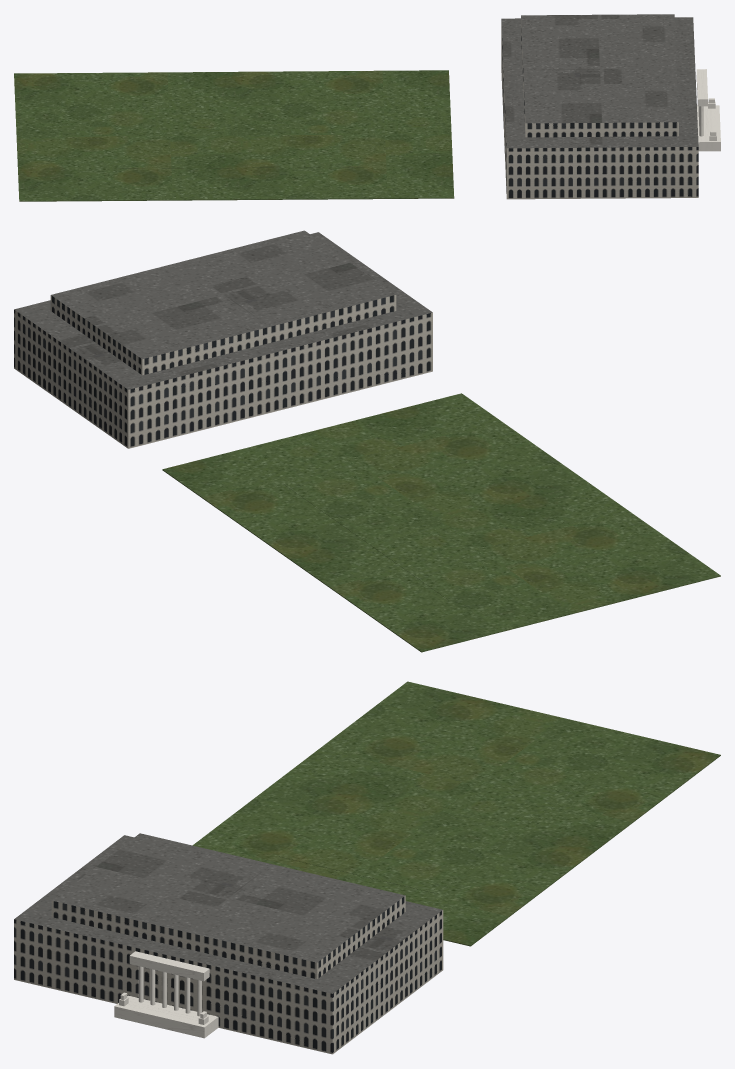
The model's file is nypl.glb.
3 views of the same model, one above another, from view 1: azimuth 30°, elevation 25°; view 2: azimuth 150°, elevation 25°; view 3: azimuth 270°, elevation 25° (orthographic). The views are drawn at different scales.
Parts seen in each view (by area): view 1: nypl; view 2: nypl; view 3: nypl.
Boxes of the visible parts, box(x1,y1,x2,y2) form: nypl: box(14, 14, 720, 201); nypl: box(14, 230, 720, 652); nypl: box(14, 681, 720, 1054).
Bounding box in the file's own units: 290 × 28 × 233.
18 materials, 18 textured.
